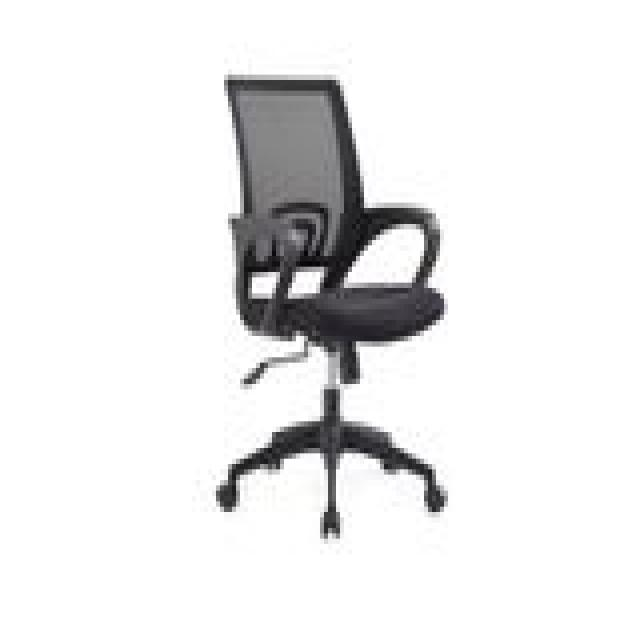others: (200, 48, 476, 549)
